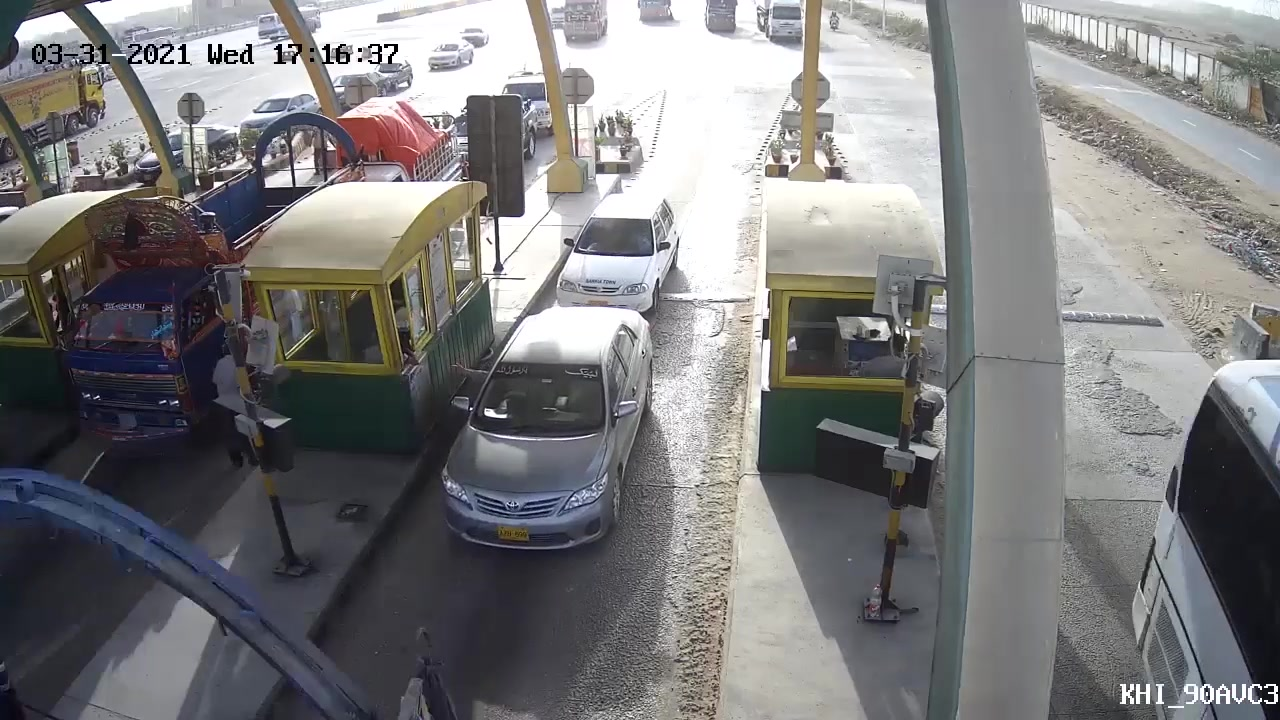F1: (429, 307, 660, 556), (546, 192, 684, 314)
